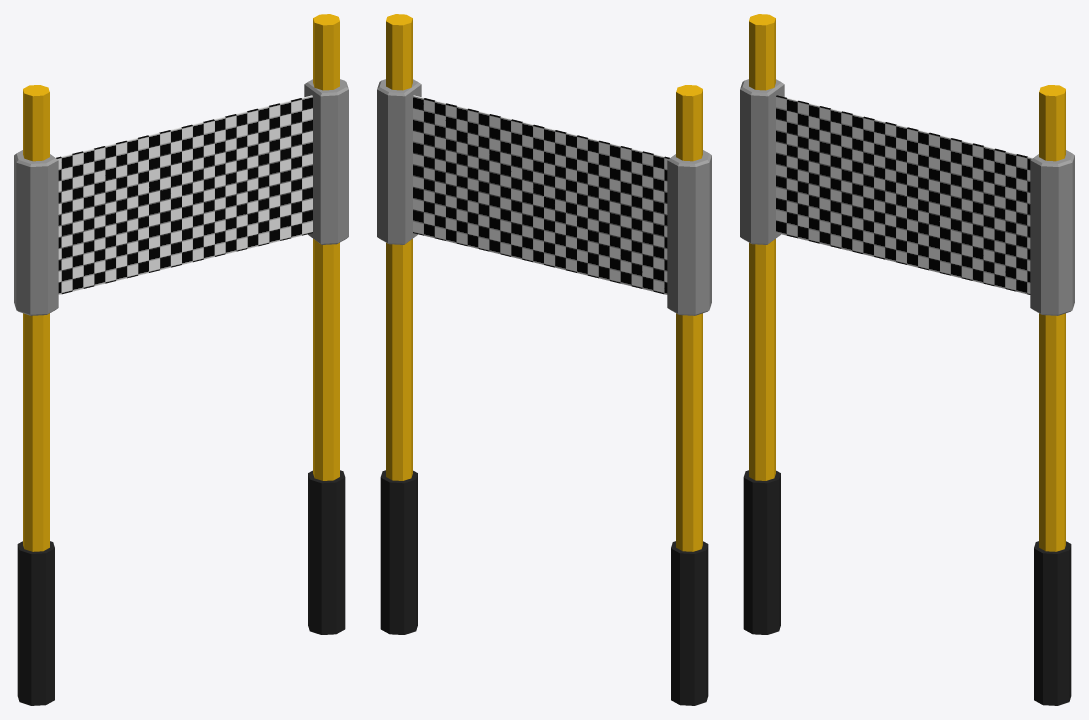
File: prop_levelend_checkeredboard.fbx
3 renders of one model, left to right at view 1: azimuth 30°, elevation 25°; view 2: azimuth 150°, elevation 25°; view 3: azimuth 330°, elevation 25°, orthographic.
Parts seen in each view (by area): view 1: board, pole1, pole2; view 2: board, pole1, pole2; view 3: board, pole2, pole1.
Part boxes in pixels (x1,y1,x2,y2): board: (14,79,348,315); pole1: (308,14,345,634); pole2: (17,85,54,705); board: (377,79,711,315); pole1: (380,14,417,634); pole2: (671,85,708,705); board: (740,79,1074,315); pole2: (743,14,780,634); pole1: (1034,85,1071,705).
Size of the model in its own units: 682 by 1200 by 82.47.
1 material, 1 textured.
